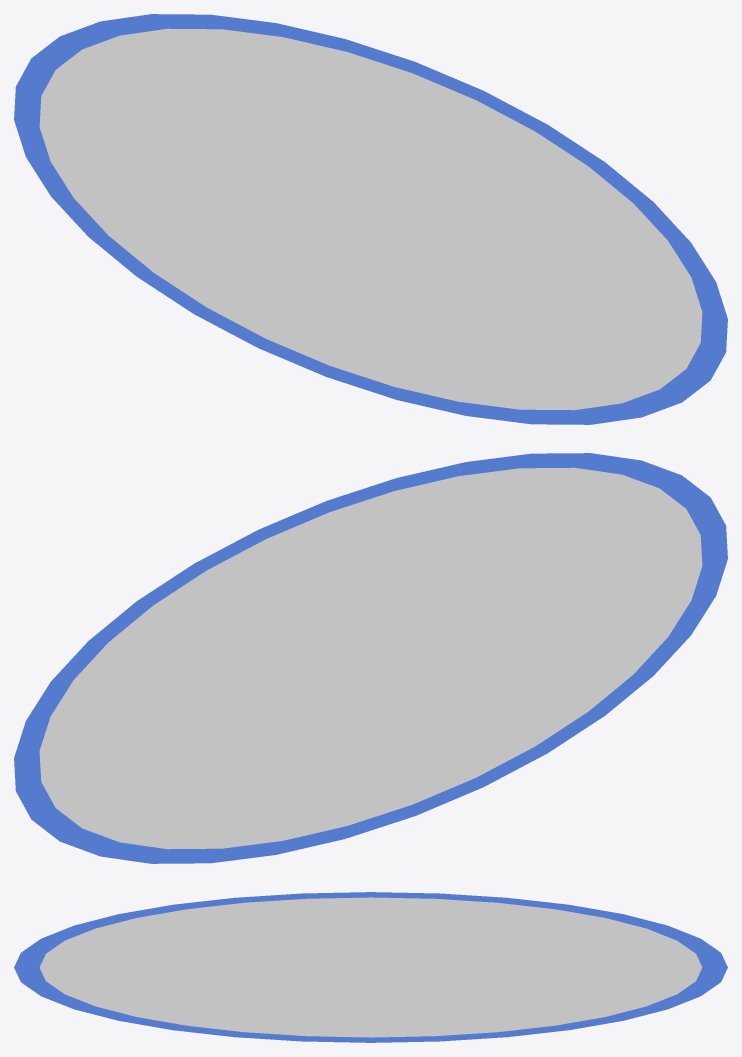
File: Blue.fbx
The picture shows the model from 3 angles, top to bottom: view 1: azimuth 30°, elevation 25°; view 2: azimuth 150°, elevation 25°; view 3: azimuth 270°, elevation 25°; orthographic projection. The views are drawn at different scales.
Parts seen in each view (by area): view 1: Blue; view 2: Blue; view 3: Blue.
Boxes of the visible parts, left/top/right/bottom form: Blue: left=14, top=14, right=727, bottom=424; Blue: left=14, top=453, right=727, bottom=863; Blue: left=14, top=892, right=727, bottom=1042.
Bounding box in the file's own units: 200 × 6.52e-05 × 400.
